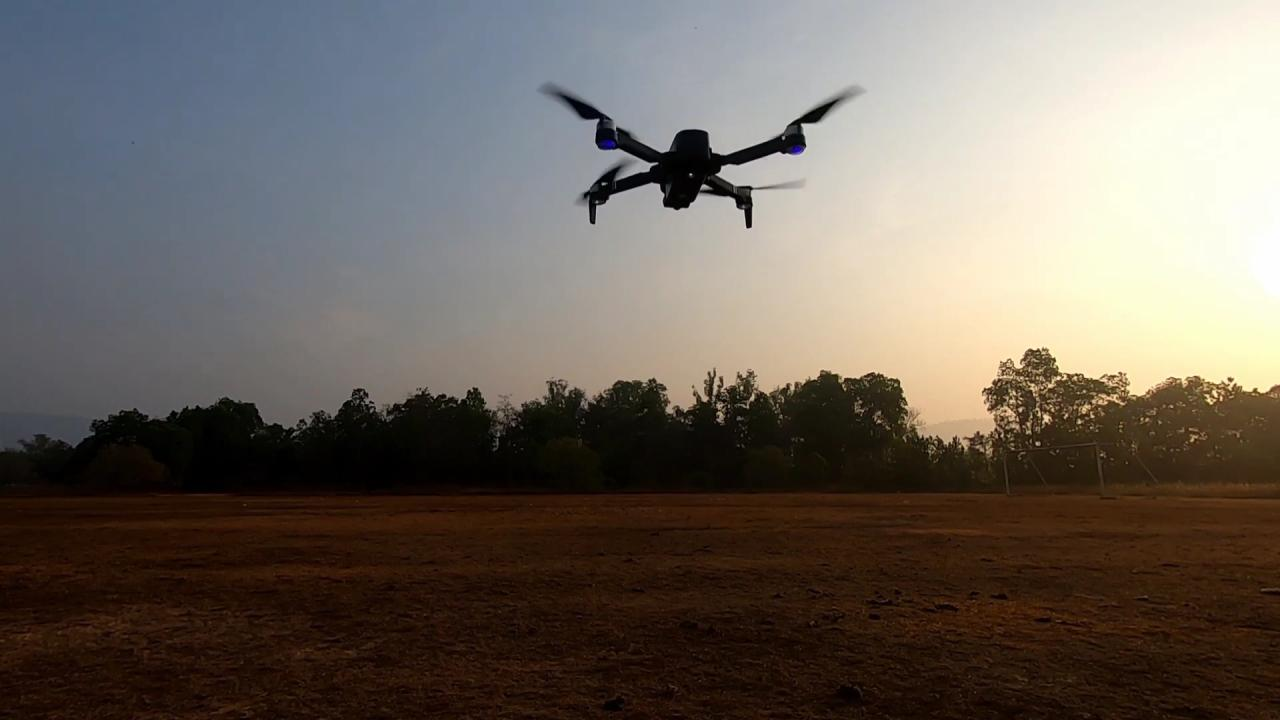Drone: (518, 68, 873, 243)
